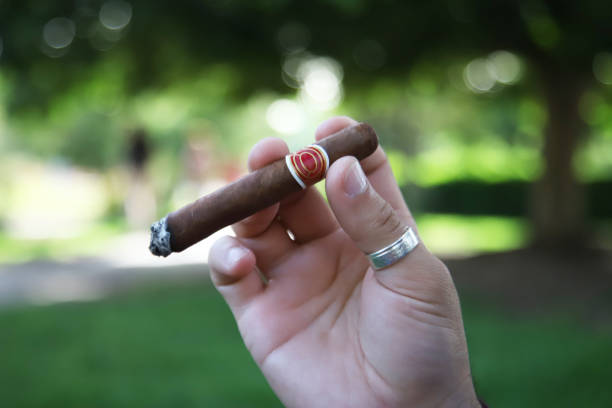cigarette: (142, 123, 381, 255)
